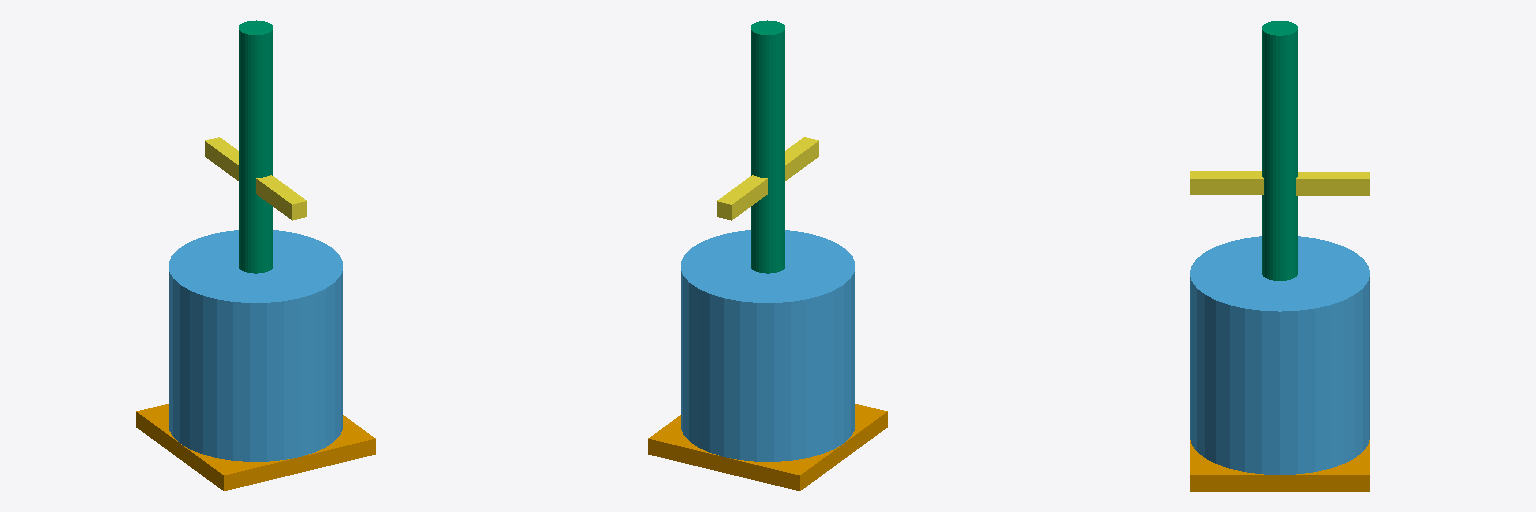
The robot description file, URDF, robot "test_3":
<?xml version="1.0"?>
<robot name="test_3">

  <link name="bottom">
    <visual>
      <geometry>
        <box size="0.1 0.1 0.01"/>
      </geometry>
      <origin xyz="0 0 0.005"/>
    </visual>
    <collision>
      <geometry>
        <box size="0.11 0.11 0.02"/>
      </geometry>
      <origin xyz="0 0 0.01"/>
    </collision>
  </link>

  <joint name="bottom_base_joint" type="fixed">
    <parent link="bottom"/>
    <child link="base_link"/>
    <origin xyz="0 0 0.01"/>
  </joint>

  <link name="base_link">
    <visual>
      <geometry>
        <cylinder length="0.1" radius="0.05"/>
      </geometry>
      <origin xyz="0 0 0.05"/>
    </visual>
    <collision>
      <geometry>
        <cylinder length="0.11" radius="0.06"/>
      </geometry>
      <origin xyz="0 0 0.055"/>
    </collision>
  </link>

  <joint name="base_vertical_move" type="fixed">
    <parent link="base_link"/>
    <child link="vertical_move_link"/>
    <origin xyz="0 0 0.05"/>
  </joint>

  <link name="vertical_move_link">
    <visual>
      <geometry>
        <cylinder length="0.2" radius="0.01"/>
      </geometry>
      <origin xyz="0 0 0.1"/>
    </visual>
    <collision>
      <geometry>
        <cylinder length="0.21" radius="0.02"/>
      </geometry>
      <origin xyz="0 0 0.105"/>
    </collision>
  </link>

  <joint name="vertical_horizontal" type="fixed">
    <parent link="vertical_move_link"/>
    <child link="horizontal_move_link"/>
    <origin xyz="0 0 0.1"/>
  </joint>

  <link name="horizontal_move_link">
    <visual>
      <geometry>
        <box size="0.01 0.01 0.1"/>
      </geometry>
      <origin xyz="0 0 0.005" rpy="1.57 0 0"/>
    </visual>
    <collision>
      <geometry>
        <box size="0.02 0.02 0.12"/>
      </geometry>
      <origin xyz="0 0 0.005" rpy="1.57 0 0"/>
    </collision>
  </link>

</robot>

--- What the picture shows (computed from the rendered views, not written in the file) ---
3 views of the same robot in one strip: view 1: azimuth 30°, elevation 25°; view 2: azimuth 150°, elevation 25°; view 3: azimuth 270°, elevation 25° (orthographic).
Robot: test_3 — 4 links, 3 joints (3 fixed); root link bottom; default pose: every joint at zero.
Links seen in each view (by area): view 1: base_link, vertical_move_link, bottom, horizontal_move_link; view 2: base_link, vertical_move_link, bottom, horizontal_move_link; view 3: base_link, vertical_move_link, bottom, horizontal_move_link.
Link boxes in pixels (x1,y1,x2,y2): base_link: (169,230,342,461); vertical_move_link: (239,20,272,273); bottom: (136,404,375,490); horizontal_move_link: (205,137,306,220); base_link: (681,230,854,461); vertical_move_link: (751,20,784,273); bottom: (648,404,887,490); horizontal_move_link: (717,137,818,220); base_link: (1190,236,1369,474); vertical_move_link: (1262,21,1297,280); bottom: (1190,440,1369,491); horizontal_move_link: (1190,171,1369,195).
Bounding box of the posed robot: 0.1 × 0.1 × 0.26 m (x, y, z).
Geometry: primitives only (box / cylinder / sphere), no mesh files.
